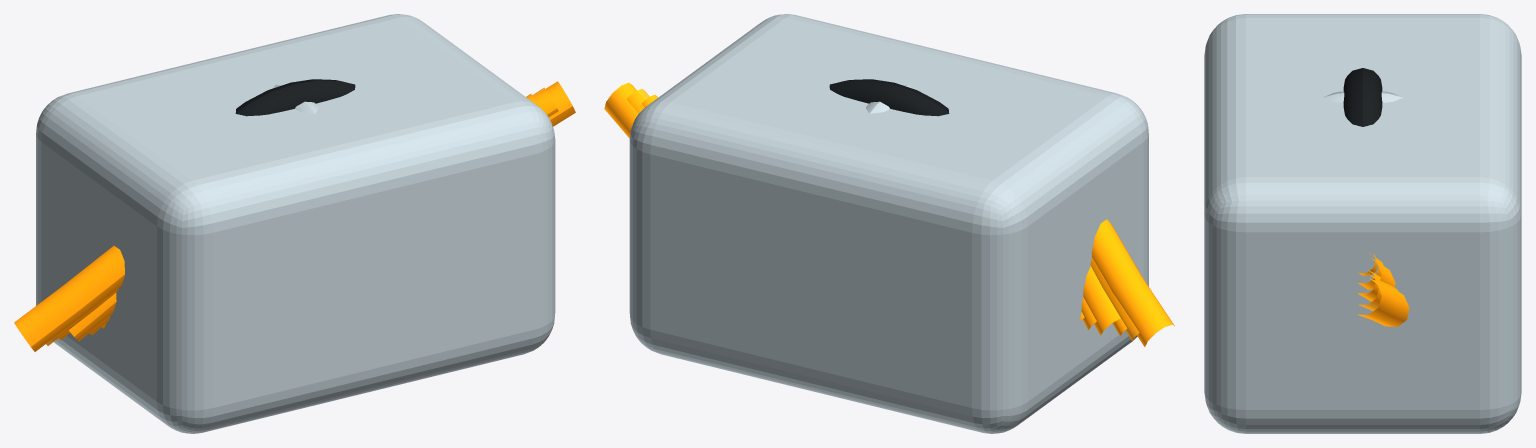
Rendered from transmission_hydraulics_12.glb.
The picture shows the model from 3 angles, left to right: view 1: azimuth 30°, elevation 25°; view 2: azimuth 150°, elevation 25°; view 3: azimuth 270°, elevation 25°; orthographic projection.
Visible parts, largest first — view 1: asset_mesh__transmission_hydraulics_0620__reference_body, asset_mesh__transmission_hydraulics_0692__fluid_path, asset_mesh__transmission_hydraulics_0636__service_element, asset_mesh__transmission_hydraulics_0671__fluid_path, asset_mesh__transmission_hydraulics_0673__fluid_path; view 2: asset_mesh__transmission_hydraulics_0620__reference_body, asset_mesh__transmission_hydraulics_0692__fluid_path, asset_mesh__transmission_hydraulics_0636__service_element, asset_mesh__transmission_hydraulics_0671__fluid_path, asset_mesh__transmission_hydraulics_0673__fluid_path; view 3: asset_mesh__transmission_hydraulics_0620__reference_body, asset_mesh__transmission_hydraulics_0636__service_element, asset_mesh__transmission_hydraulics_0692__fluid_path, asset_mesh__transmission_hydraulics_0617__functional_ring.
Part boxes in pixels (x1,y1,x2,y2): asset_mesh__transmission_hydraulics_0620__reference_body: [36, 14, 555, 433]; asset_mesh__transmission_hydraulics_0692__fluid_path: [14, 81, 575, 351]; asset_mesh__transmission_hydraulics_0636__service_element: [235, 79, 355, 116]; asset_mesh__transmission_hydraulics_0671__fluid_path: [69, 293, 116, 340]; asset_mesh__transmission_hydraulics_0673__fluid_path: [46, 87, 558, 345]; asset_mesh__transmission_hydraulics_0620__reference_body: [629, 14, 1148, 433]; asset_mesh__transmission_hydraulics_0692__fluid_path: [604, 82, 1174, 346]; asset_mesh__transmission_hydraulics_0636__service_element: [829, 79, 949, 116]; asset_mesh__transmission_hydraulics_0671__fluid_path: [1083, 266, 1120, 335]; asset_mesh__transmission_hydraulics_0673__fluid_path: [626, 89, 1139, 341]; asset_mesh__transmission_hydraulics_0620__reference_body: [1204, 14, 1521, 433]; asset_mesh__transmission_hydraulics_0636__service_element: [1343, 68, 1382, 126]; asset_mesh__transmission_hydraulics_0692__fluid_path: [1357, 278, 1409, 326]; asset_mesh__transmission_hydraulics_0617__functional_ring: [1322, 91, 1403, 102].
Bounding box in the file's own units: 1.73 × 0.83 × 0.84.
